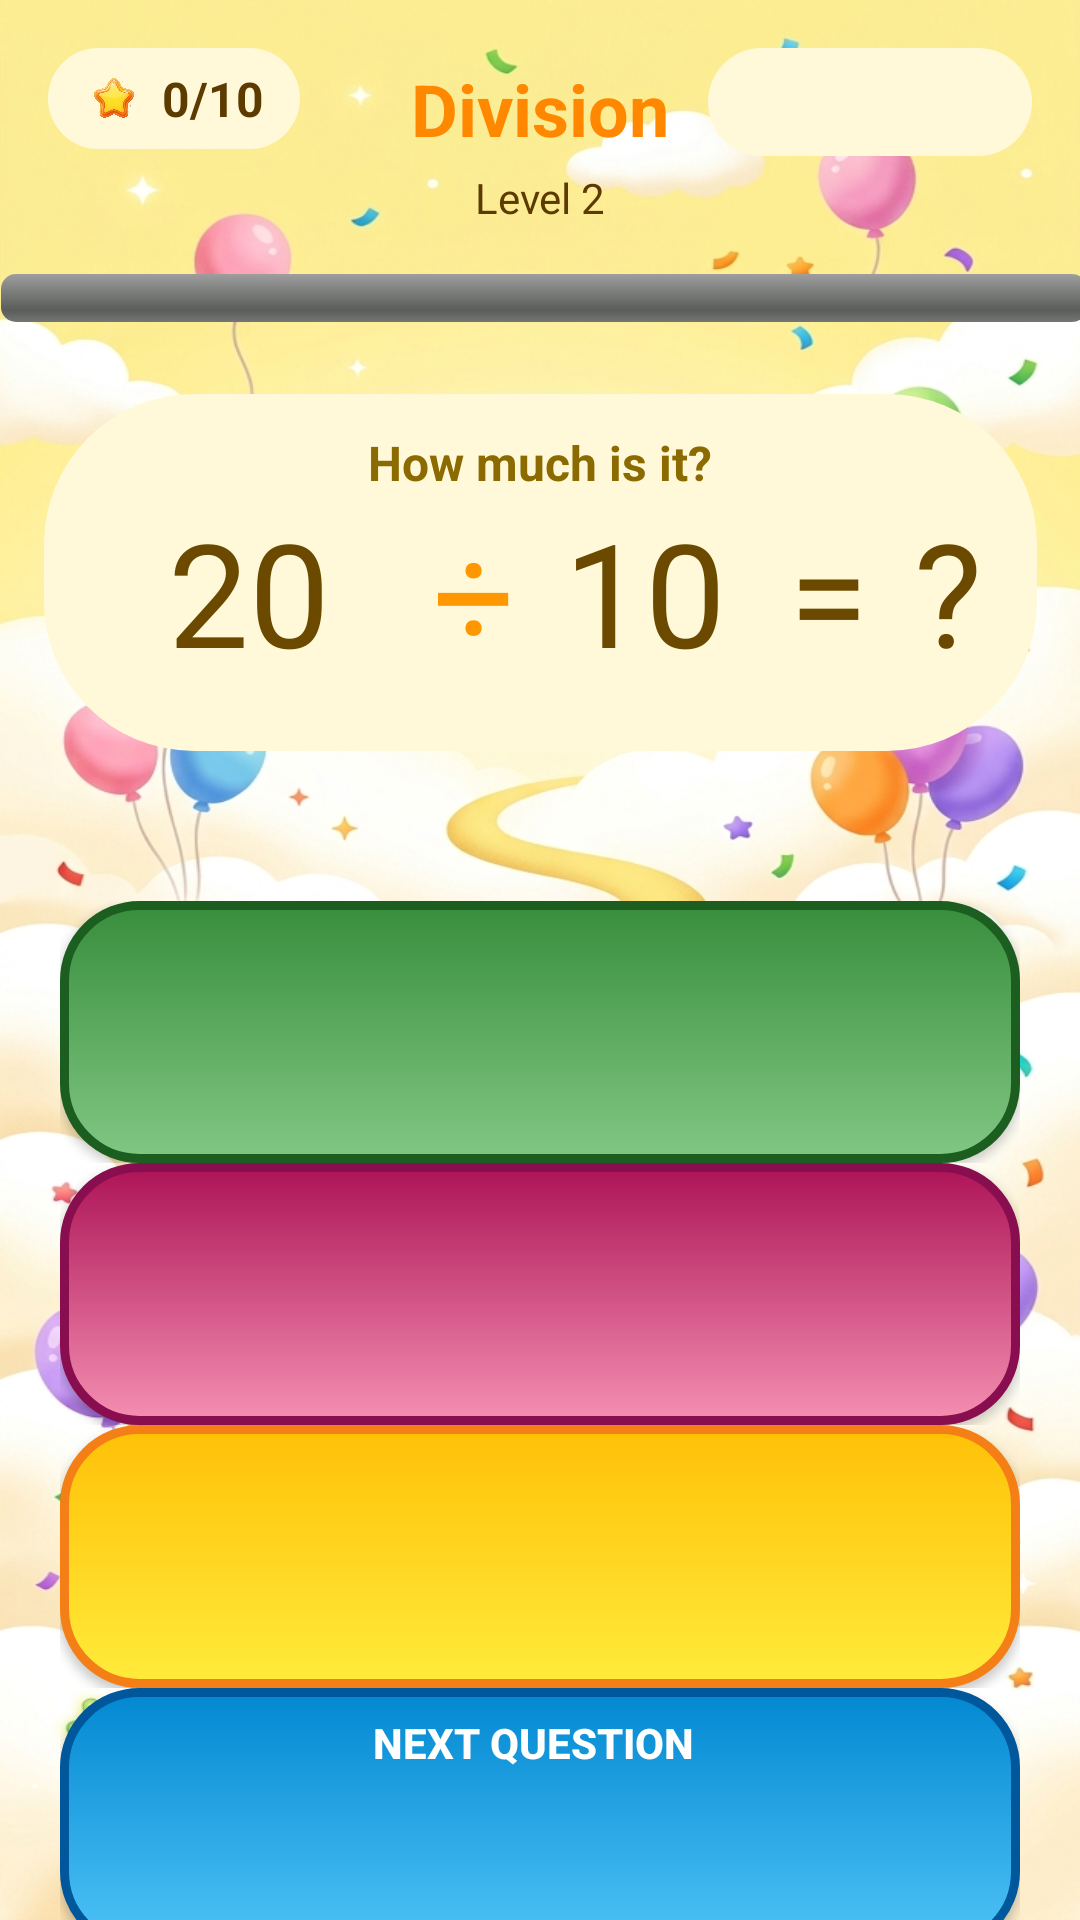

Icons on this 1080*1920 Android screen, each with the point to tap as [x,y]:
estrela: [114,98]
